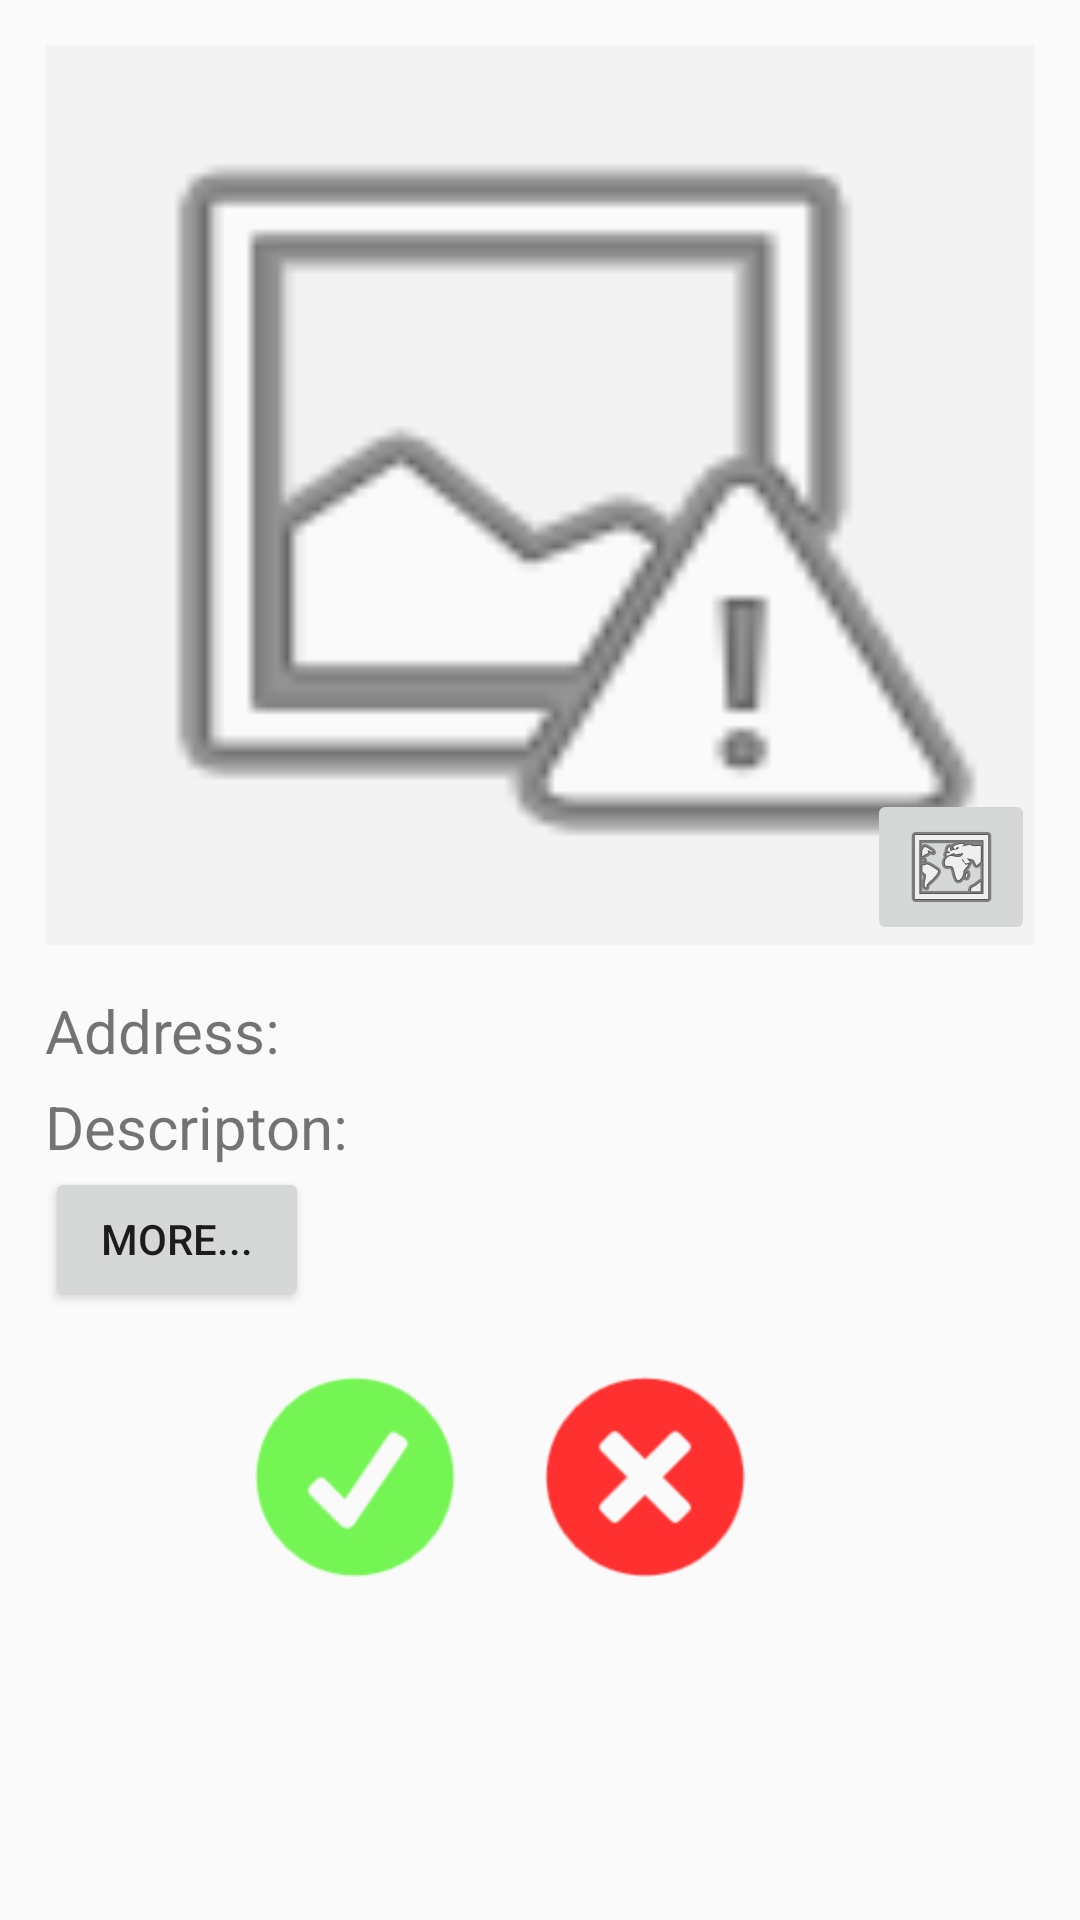

Where to tap for icons on this 1080px×1920px app screen, as (x=x, y=y):
cancel: (x=645, y=1477)
mapmode: (x=945, y=858)
